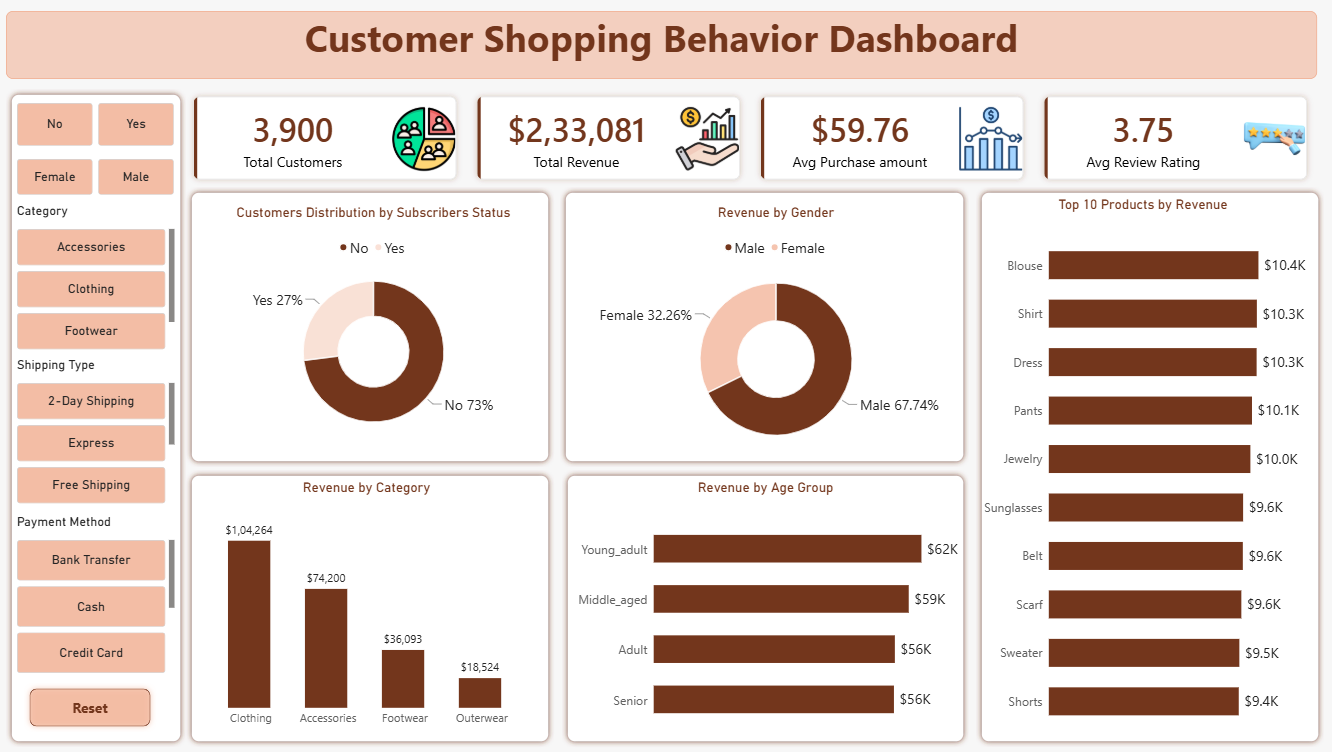

Layout of this report page (visuals, bound fields, positions):
{"tool":"powerbi","page":{"name":"Page 1","canvas":[1920,1080],"ordinal":0},"visuals":[{"type":"shape","box":[10,127.1,257.1,940],"z":0},{"type":"shape","box":[1395.7,267.1,497.1,800],"z":1000},{"type":"clusteredBarChart","title":"Top 10 Products by Revenue","fields":{"Category":["customer_shopping_behavior_cleaned.item_purchased"],"Y":["Measure Table.Total Revenue"]},"box":[1385.7,267.1,497.1,800],"z":2000},{"type":"shape","box":[804.3,671.4,581.4,395.7],"z":3000},{"type":"shape","box":[267.1,671.4,525.7,395.7],"z":4000},{"type":"shape","box":[801.4,267.1,584.3,400],"z":5000},{"type":"shape","box":[267.1,267.1,525.7,400],"z":6000},{"type":"donutChart","title":"Customers Distribution by Subscribers Status","fields":{"Category":["customer_shopping_behavior_cleaned.subscription_status"],"Y":["Measure Table.Total Customers"]},"box":[277.1,278.6,515.7,371.4],"z":7000},{"type":"cardVisual","fields":{"Data":["Measure Table.Total Customers","Measure Table.Total Revenue","Measure Table.Avg Purchase amount","Measure Table.Avg Review Rating"]},"box":[267.1,127.1,1615.7,140],"z":8000},{"type":"textbox","box":[10,15.7,1872.9,97.1],"z":9000},{"type":"clusteredColumnChart","title":"Revenue by Category","fields":{"Category":["customer_shopping_behavior_cleaned.category"],"Y":["Measure Table.Total Revenue"]},"box":[267.1,671.4,515.7,385.7],"z":10000},{"type":"clusteredBarChart","title":"Revenue by Age Group","fields":{"Category":["customer_shopping_behavior_cleaned.age_group"],"Y":["Measure Table.Total Revenue"]},"box":[804.3,671.4,581.4,395.7],"z":11000},{"type":"donutChart","title":"Revenue by Gender","fields":{"Category":["customer_shopping_behavior_cleaned.gender"],"Y":["Measure Table.Total Revenue"]},"box":[834.3,278.6,551.4,392.9],"z":12000},{"type":"advancedSlicerVisual","fields":{"Values":["customer_shopping_behavior_cleaned.subscription_status"]},"box":[25.7,147.1,225.7,61.4],"z":13000},{"type":"advancedSlicerVisual","fields":{"Values":["customer_shopping_behavior_cleaned.gender"]},"box":[25.7,227.1,225.7,51.4],"z":13001},{"type":"advancedSlicerVisual","title":"Category","fields":{"Values":["customer_shopping_behavior_cleaned.category"]},"box":[25.7,290,225.7,210],"z":13002},{"type":"advancedSlicerVisual","title":"Shipping Type","fields":{"Values":["customer_shopping_behavior_cleaned.shipping_type"]},"box":[25.7,510,225.7,211.4],"z":13003},{"type":"advancedSlicerVisual","title":"Payment Method","fields":{"Values":["customer_shopping_behavior_cleaned.payment_method"]},"box":[25.7,734.3,225.7,227.1],"z":13004},{"type":"actionButton","box":[35.7,975.7,188.6,70],"z":13005}]}

Visuals, with their boxes in screenshot pixels (x1, y1, x2, y2), scaled from the page's 1920x1080 canvas onto the 1332x752 screenshot:
shape: rect(7, 88, 185, 743)
shape: rect(968, 186, 1313, 743)
"Top 10 Products by Revenue" clusteredBarChart: rect(961, 186, 1306, 743)
shape: rect(558, 467, 961, 743)
shape: rect(185, 467, 550, 743)
shape: rect(556, 186, 961, 464)
shape: rect(185, 186, 550, 464)
"Customers Distribution by Subscribers Status" donutChart: rect(192, 194, 550, 453)
cardVisual - Measure Table.Total Customers x Measure Table.Total Revenue: rect(185, 88, 1306, 186)
textbox: rect(7, 11, 1306, 79)
"Revenue by Category" clusteredColumnChart: rect(185, 467, 543, 736)
"Revenue by Age Group" clusteredBarChart: rect(558, 467, 961, 743)
"Revenue by Gender" donutChart: rect(579, 194, 961, 468)
advancedSlicerVisual - customer_shopping_behavior_cleaned.subscription_status: rect(18, 102, 174, 145)
advancedSlicerVisual - customer_shopping_behavior_cleaned.gender: rect(18, 158, 174, 194)
"Category" advancedSlicerVisual: rect(18, 202, 174, 348)
"Shipping Type" advancedSlicerVisual: rect(18, 355, 174, 502)
"Payment Method" advancedSlicerVisual: rect(18, 511, 174, 669)
actionButton: rect(25, 679, 156, 728)
